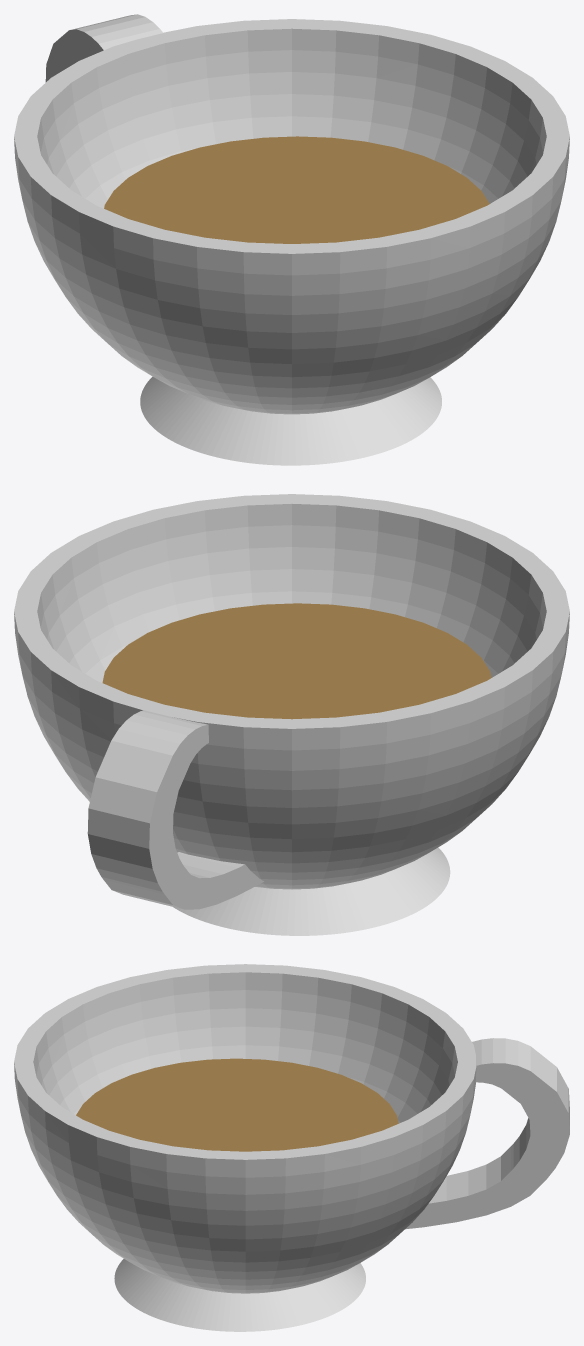
The model's file is kruze_u.glb.
The picture shows the model from 3 angles, top to bottom: view 1: azimuth 30°, elevation 25°; view 2: azimuth 150°, elevation 25°; view 3: azimuth 270°, elevation 25°; orthographic projection. The views are drawn at different scales.
Parts seen in each view (by area): view 1: obj_0; view 2: obj_0; view 3: obj_0.
Part boxes in pixels (x1,y1,x2,y2): obj_0: [14, 14, 569, 465]; obj_0: [14, 494, 569, 935]; obj_0: [14, 964, 569, 1331].
Size of the model in its own units: 50 by 26.33 by 60.
